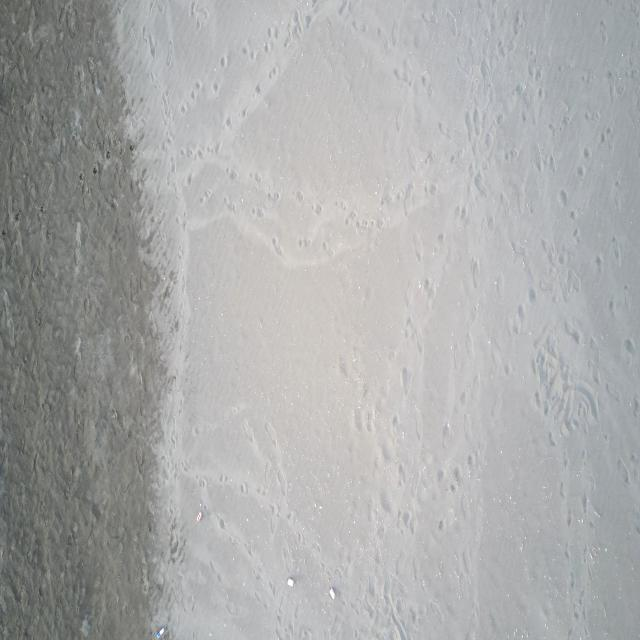tin-and-aluminum-cans: (155, 627, 167, 640), (328, 587, 336, 601), (196, 511, 203, 523), (287, 577, 294, 586)
